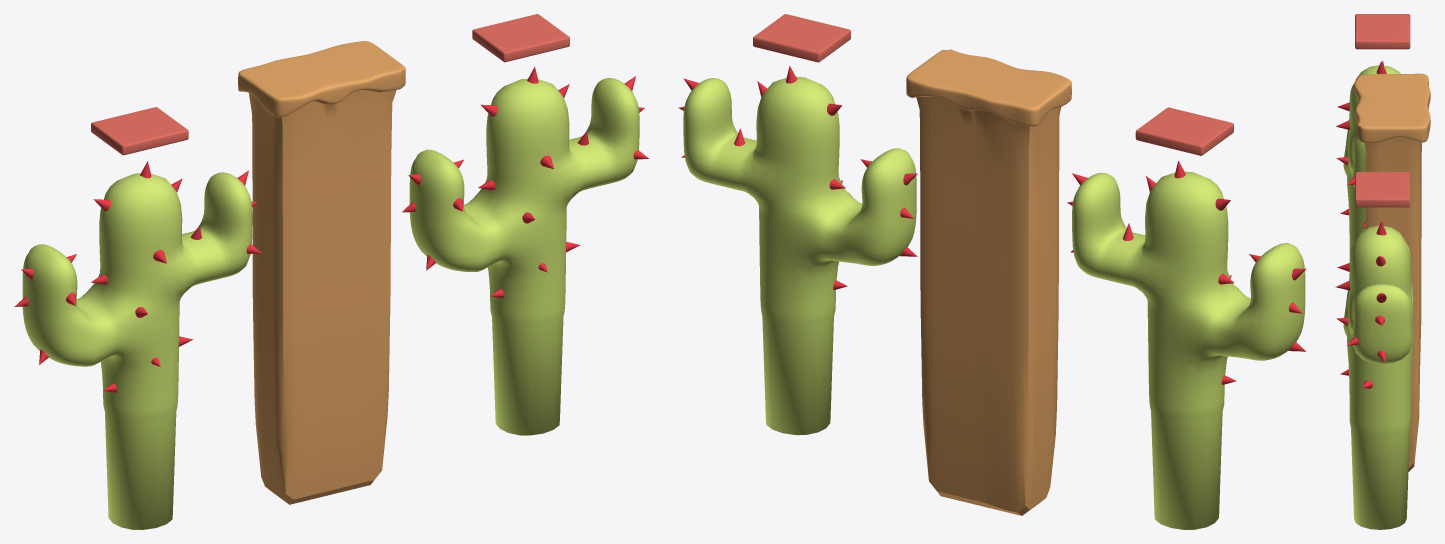
File: 3D_Mexico_Level.fbx
3 views of the same model, side by side, from view 1: azimuth 30°, elevation 25°; view 2: azimuth 150°, elevation 25°; view 3: azimuth 270°, elevation 25° (orthographic). The views are drawn at different scales.
Visible parts, largest first — view 1: Ground, Cactus 2, Cactus 1, Mexico Platform 1, Mexico Platform 2; view 2: Ground, Cactus 1, Cactus 2, Mexico Platform 1, Mexico Platform 2; view 3: Cactus 2, Ground, Cactus 1, Mexico Platform 2, Mexico Platform 1.
Boxes of the visible parts, bbox=[...] form: Ground: bbox=[238, 41, 405, 504]; Cactus 2: bbox=[402, 66, 649, 435]; Cactus 1: bbox=[14, 161, 261, 529]; Mexico Platform 1: bbox=[91, 107, 188, 155]; Mexico Platform 2: bbox=[472, 14, 569, 62]; Ground: bbox=[906, 49, 1071, 515]; Cactus 1: bbox=[1067, 161, 1306, 529]; Cactus 2: bbox=[678, 66, 917, 435]; Mexico Platform 1: bbox=[1135, 107, 1233, 155]; Mexico Platform 2: bbox=[753, 14, 850, 62]; Cactus 2: bbox=[1335, 221, 1413, 529]; Ground: bbox=[1353, 73, 1430, 471]; Cactus 1: bbox=[1336, 61, 1400, 257]; Mexico Platform 2: bbox=[1355, 172, 1410, 207]; Mexico Platform 1: bbox=[1355, 14, 1410, 49].
Size of the model in its own units: 10037 by 6422 by 1556.
